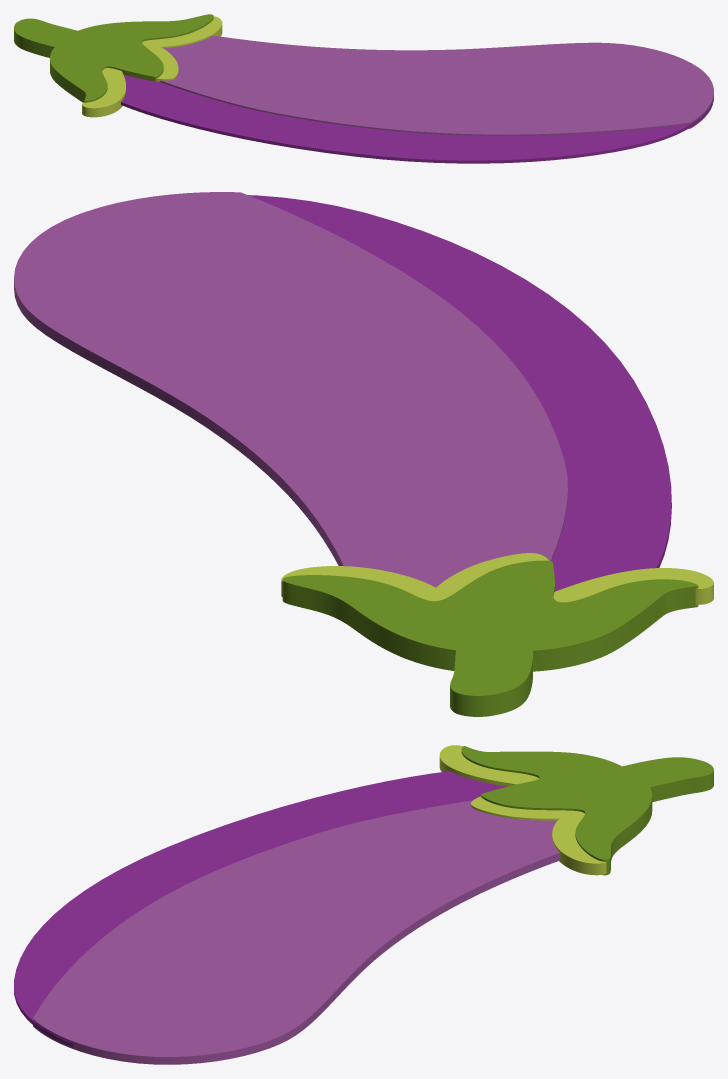
The model's file is emoji_u1f346.glb.
3 renders of one model, top to bottom at view 1: azimuth 30°, elevation 25°; view 2: azimuth 150°, elevation 25°; view 3: azimuth 270°, elevation 25°, orthographic. The views are drawn at different scales.
Visible parts, largest first — view 1: emoji_u1f346; view 2: emoji_u1f346; view 3: emoji_u1f346.
Boxes of the visible parts, left/top/right/bottom form: emoji_u1f346: left=14, top=14, right=713, bottom=163; emoji_u1f346: left=14, top=192, right=713, bottom=716; emoji_u1f346: left=14, top=745, right=713, bottom=1064.
Bounding box in the file's own units: 0.0345 × 0.0008 × 0.0329.
